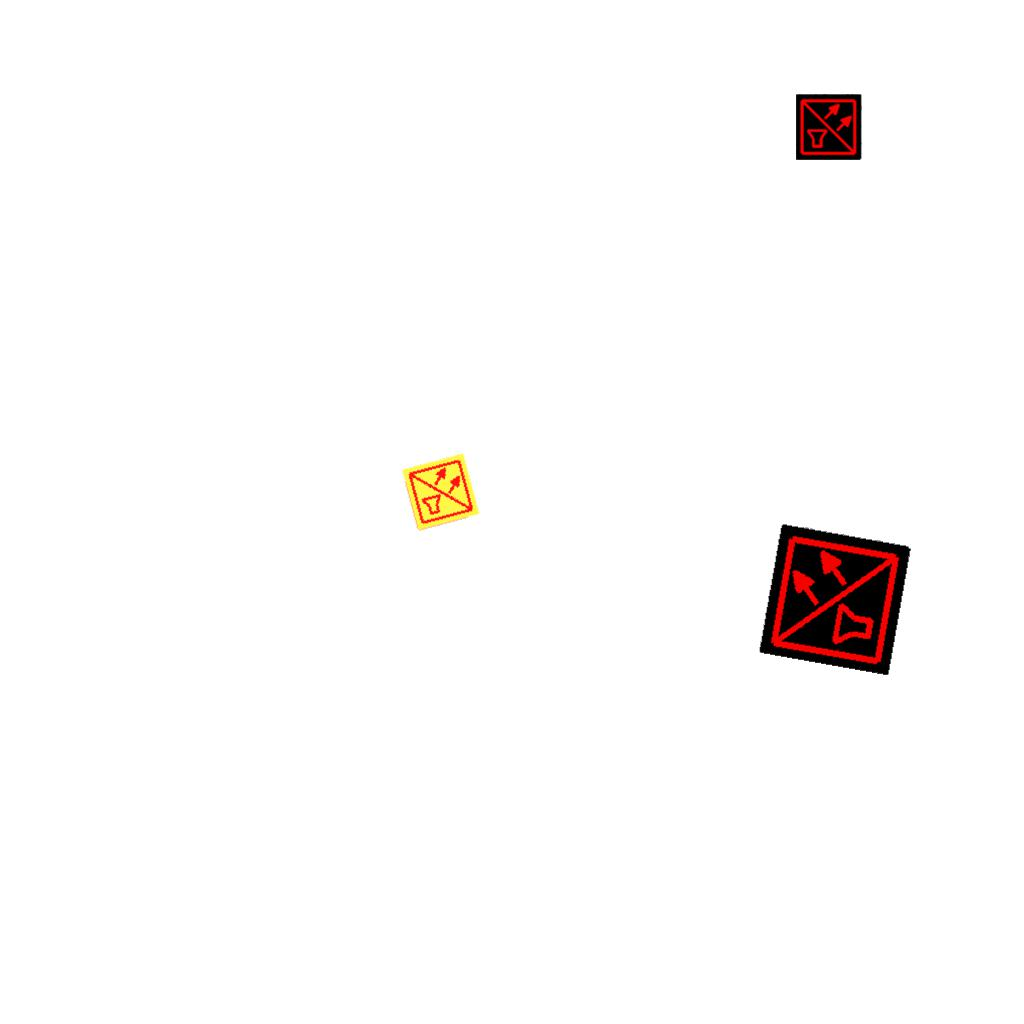OKW_Multisensormelder_(Kombination_optischer_Rauch-Kahlenmonoxid_Waerme-Melder): (758, 522, 912, 676), (400, 451, 482, 533), (796, 94, 862, 160)
